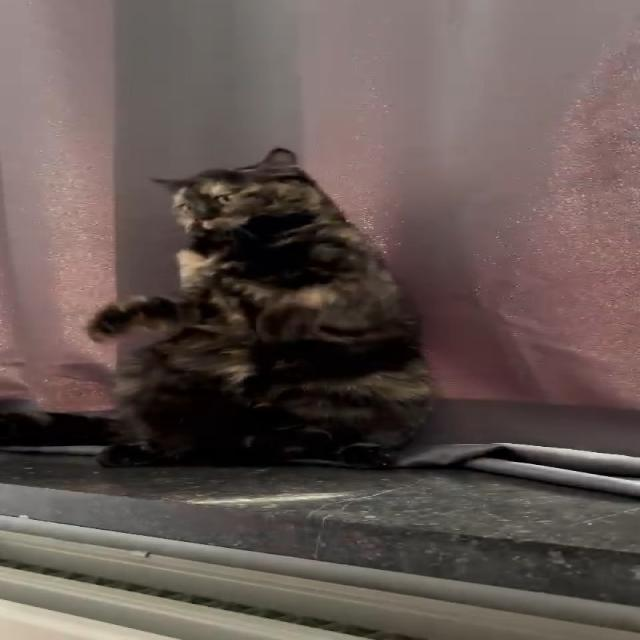authorized: (85, 146, 436, 469)
